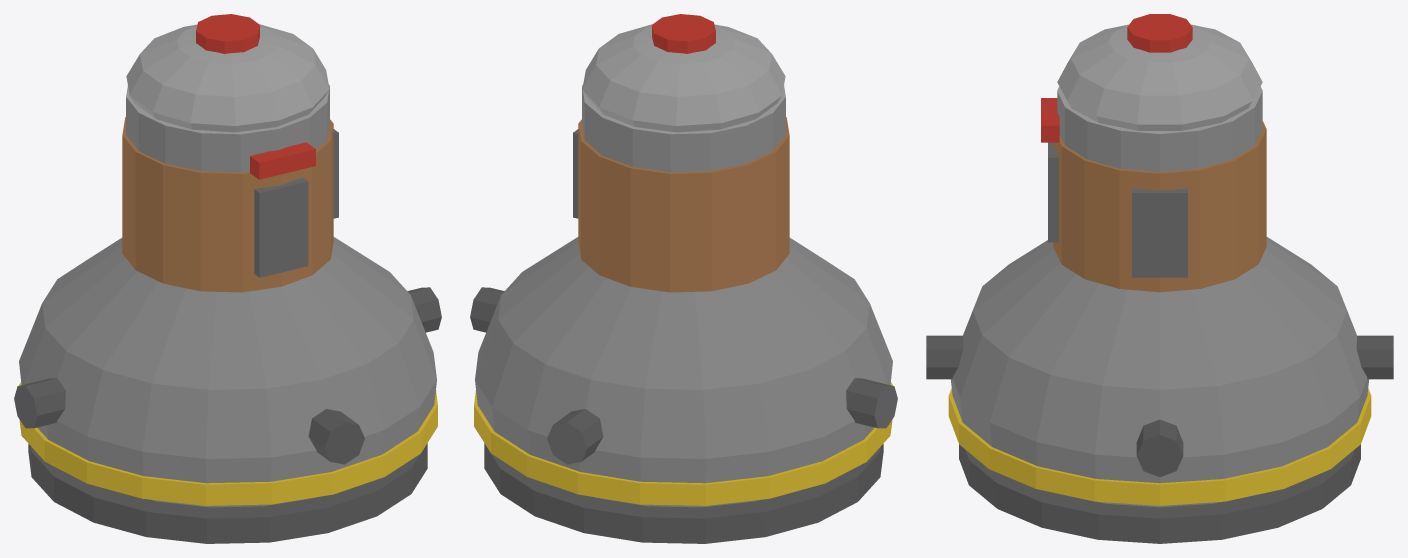
File: Building_FirefoamPopper.glb
3 renders of one model, left to right at view 1: azimuth 30°, elevation 25°; view 2: azimuth 150°, elevation 25°; view 3: azimuth 270°, elevation 25°, orthographic.
Visible parts, largest first — view 1: FirefoamPopper; view 2: FirefoamPopper; view 3: FirefoamPopper.
Part boxes in pixels (bbox=[...]): FirefoamPopper: bbox=[14, 14, 441, 543]; FirefoamPopper: bbox=[470, 14, 897, 543]; FirefoamPopper: bbox=[926, 14, 1393, 543].
Size of the model in its own units: 1 by 1.02 by 1.
1 material, 1 textured.
